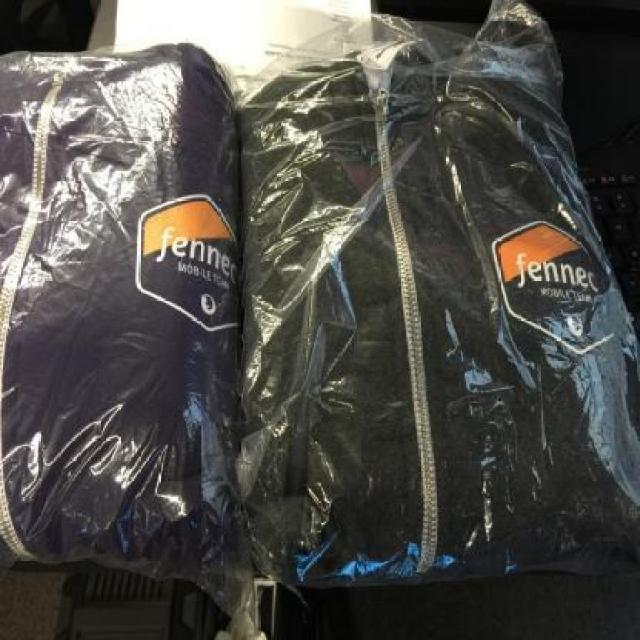plastic bag: (18, 11, 258, 640)
